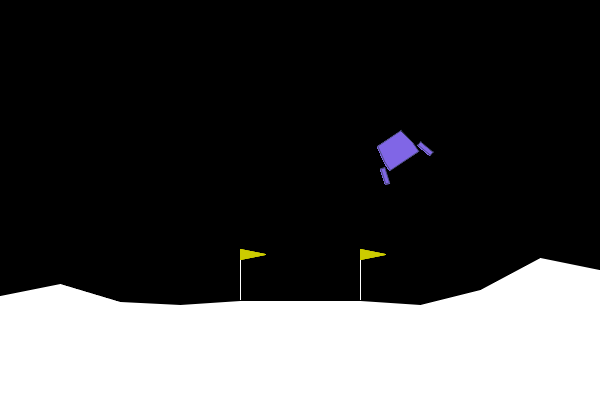lander: (363, 120, 435, 187)
